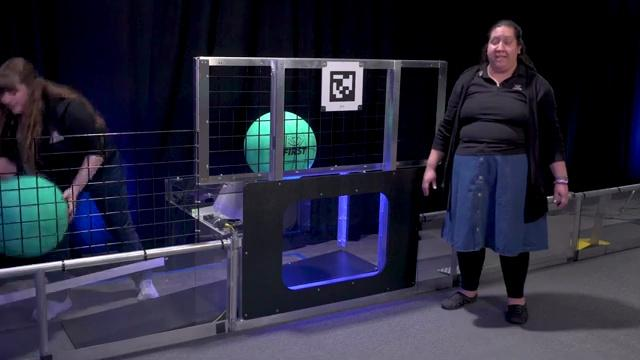ALGAE: (0, 174, 69, 258), (243, 110, 317, 173)
